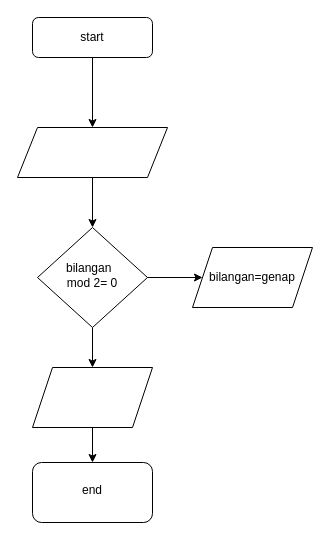
Some shapes in this 330 by 540 pixel diagram are drawn without their labels. The shapes that lost their labels are listed below. From the top down, each one's box as (x1, y1, x2, y2) in pixels, then its label:
(16, 126, 168, 178): bilangan
(32, 366, 152, 428): bilangan =ganjil
